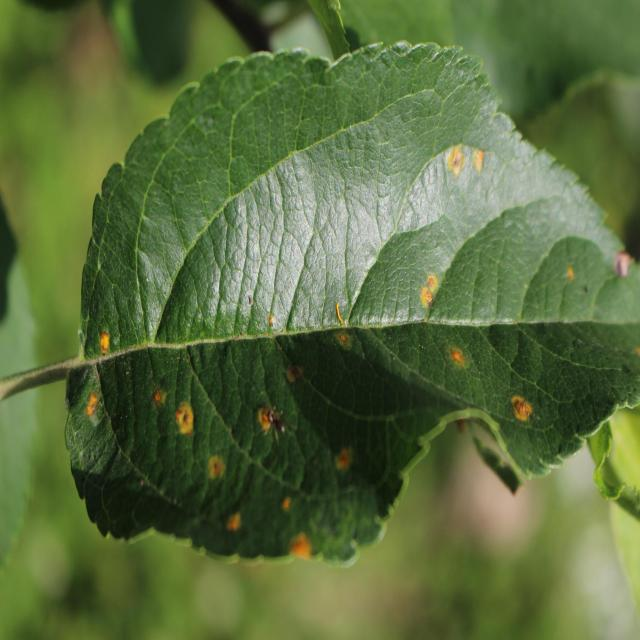Rust: (410, 258, 451, 318), (505, 379, 538, 434), (255, 397, 287, 453), (280, 532, 320, 574), (173, 392, 198, 453), (318, 444, 356, 480), (438, 138, 468, 183), (443, 336, 474, 379), (198, 452, 234, 489), (326, 326, 361, 362), (90, 327, 121, 364), (79, 380, 104, 420), (275, 480, 296, 527), (467, 146, 490, 187), (556, 258, 584, 290), (223, 507, 248, 542)
